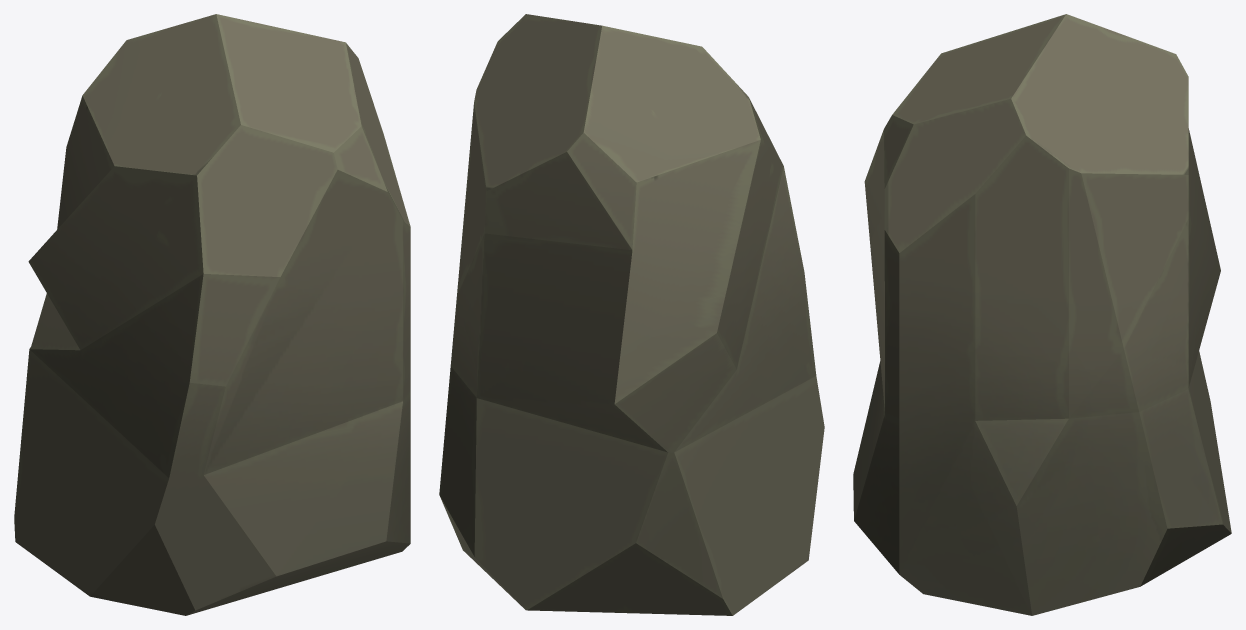
The model's file is Rock2.fbx.
3 views of the same model, side by side, from view 1: azimuth 30°, elevation 25°; view 2: azimuth 150°, elevation 25°; view 3: azimuth 270°, elevation 25° (orthographic).
Visible parts, largest first — view 1: Cube.001; view 2: Cube.001; view 3: Cube.001.
Part boxes in pixels (bbox=[...]): Cube.001: bbox=[14, 14, 410, 615]; Cube.001: bbox=[439, 14, 824, 615]; Cube.001: bbox=[853, 14, 1231, 615].
Size of the model in its own units: 454 by 700 by 457.
1 material, 1 textured.
